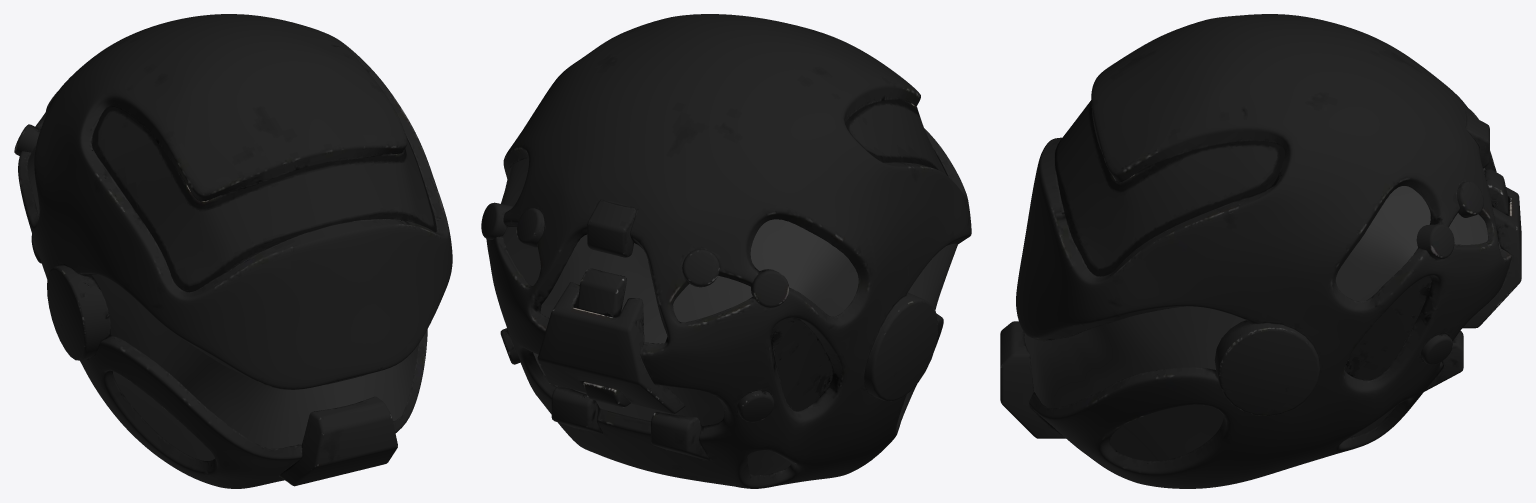
Rendered from helmet.glb.
The picture shows the model from 3 angles, left to right: view 1: azimuth 30°, elevation 25°; view 2: azimuth 150°, elevation 25°; view 3: azimuth 270°, elevation 25°; orthographic projection. The views are drawn at different scales.
Visible parts, largest first — view 1: parts; view 2: parts; view 3: parts.
Boxes of the visible parts, x1=… form: parts: x1=14, y1=14, x2=452, y2=488; parts: x1=481, y1=14, x2=971, y2=488; parts: x1=1000, y1=14, x2=1521, y2=488.
Size of the model in its own units: 2.79 by 3.06 by 3.5.
3 materials, 3 textured.
